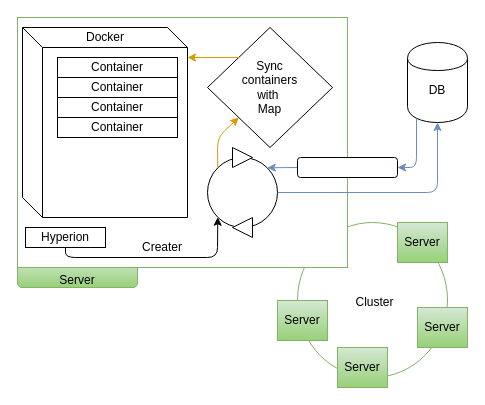
This 485x405 diagram has some shape labels left out. The box of each missing label's shape, as (x1, y1, x2, y2) in pixels:
Docker Map: (296, 156, 398, 178)
Watcher: (206, 156, 278, 228)
